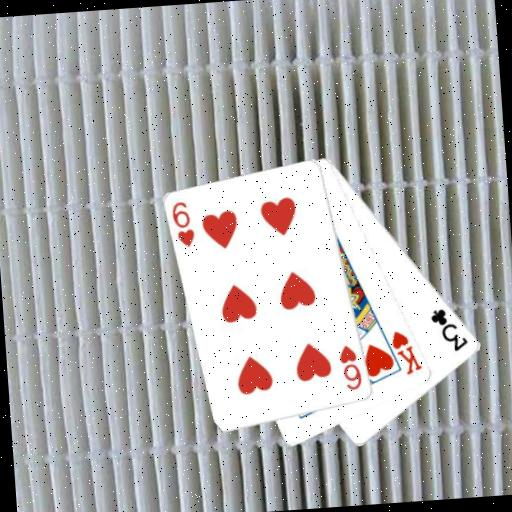3C: (427, 304, 471, 355)
6H: (336, 341, 365, 393), (168, 198, 197, 250)
KH: (388, 327, 425, 378)
